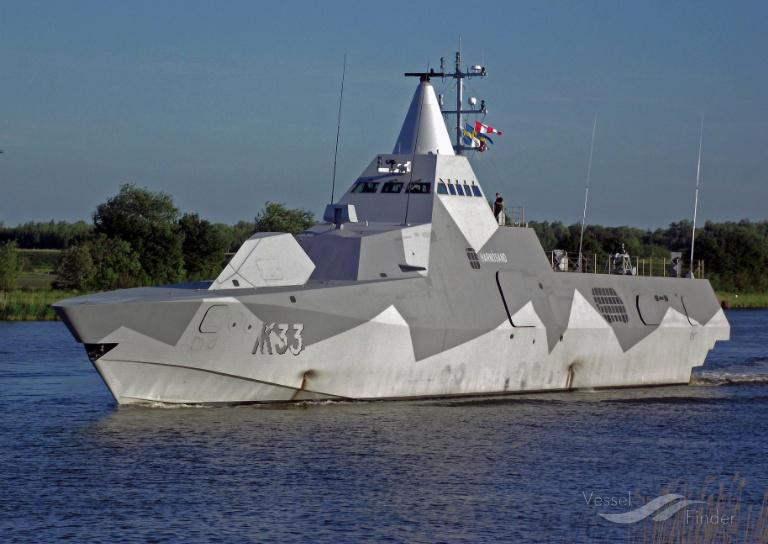OCR: (254, 318, 305, 364)
